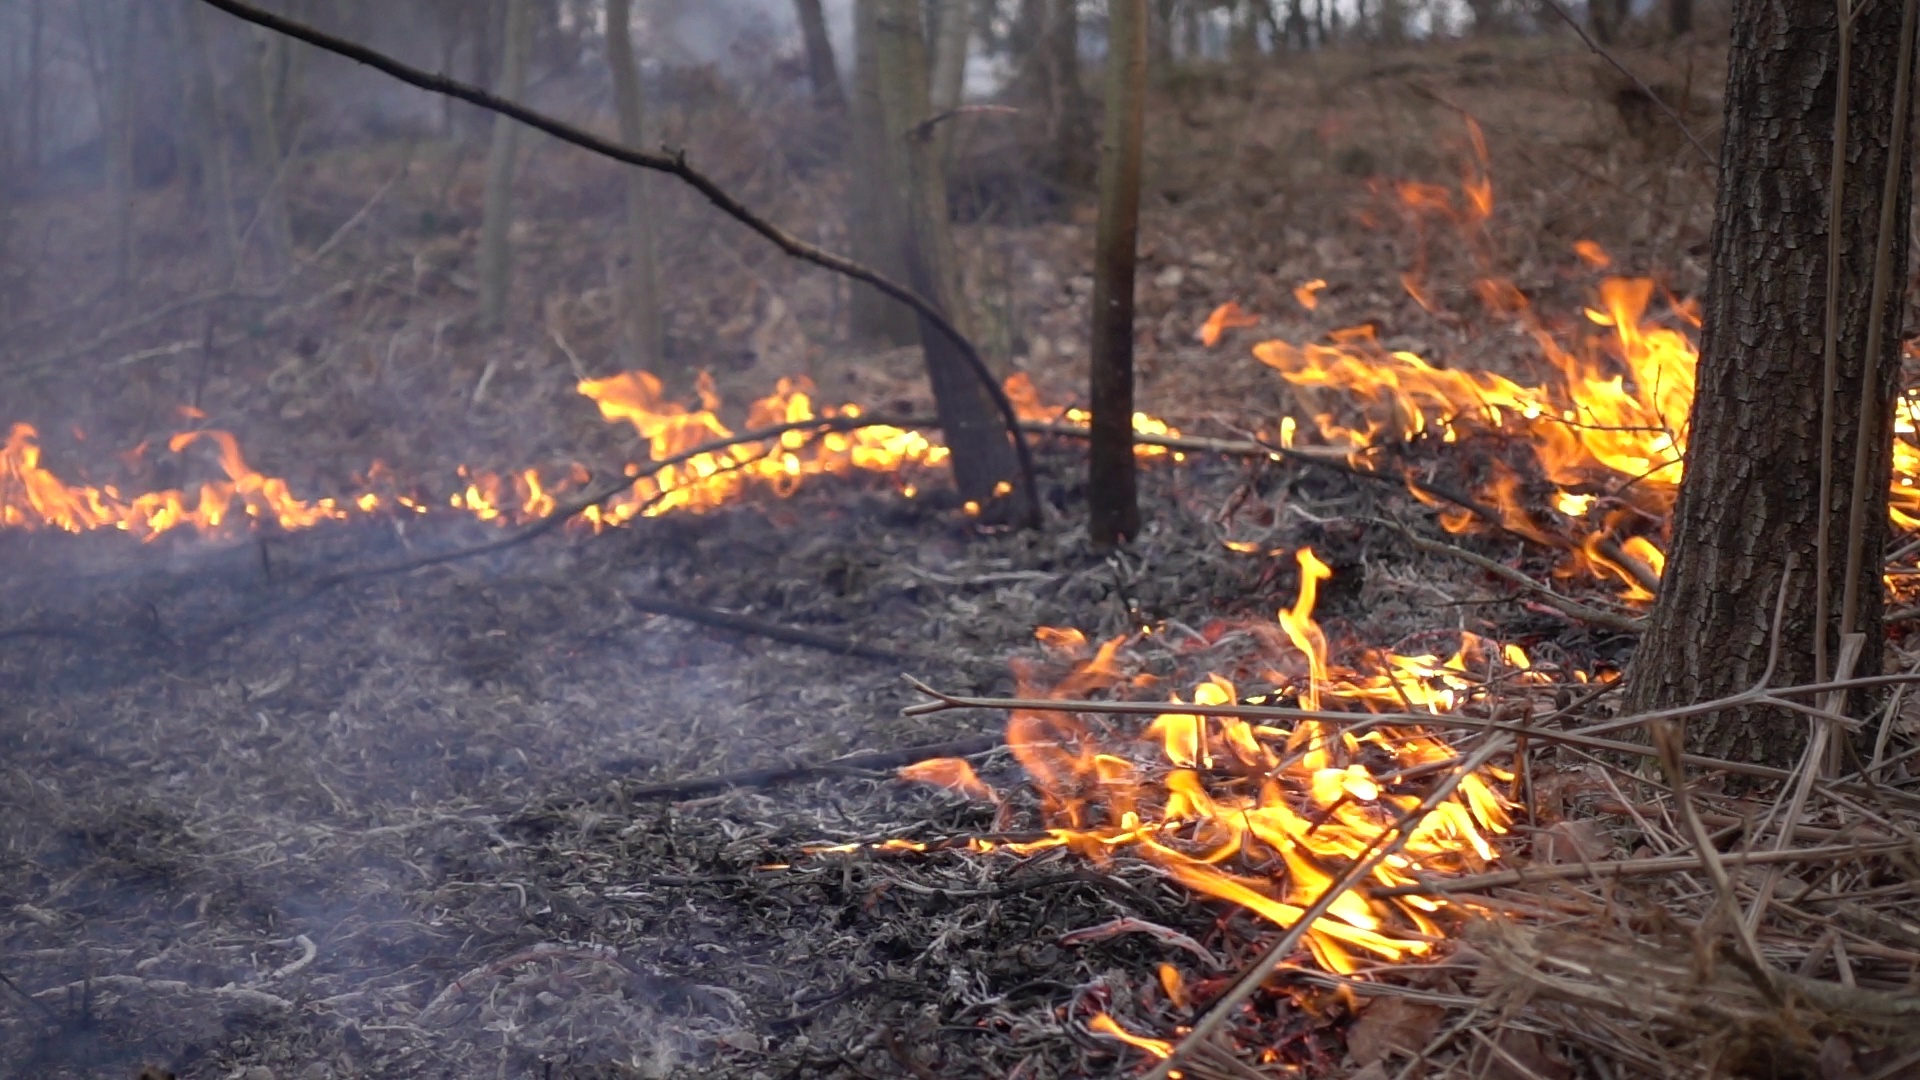fire: (1004, 629, 1527, 984), (1257, 274, 1693, 487), (579, 368, 945, 516), (3, 417, 328, 531), (1888, 389, 1920, 534), (525, 469, 556, 518), (463, 487, 497, 517)
